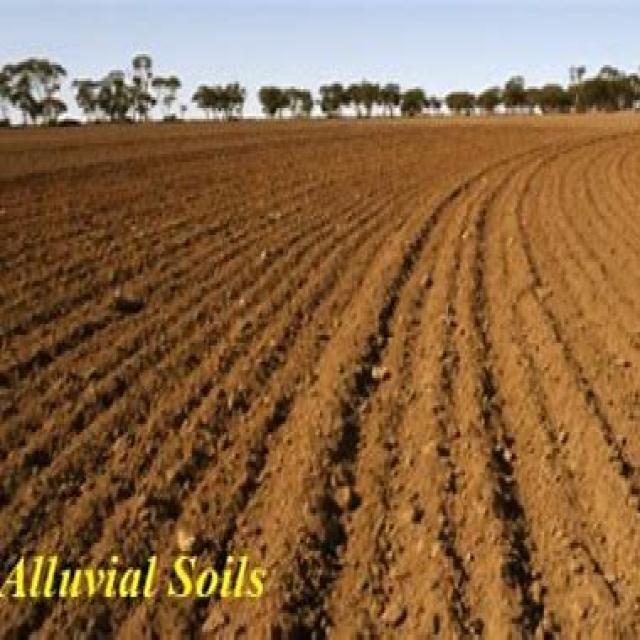Alluvial Soil: (33, 151, 633, 508)
